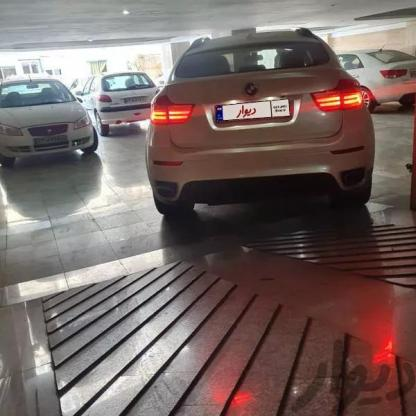Car: (132, 11, 375, 229), (0, 60, 112, 164), (310, 31, 416, 123), (77, 64, 162, 138)
